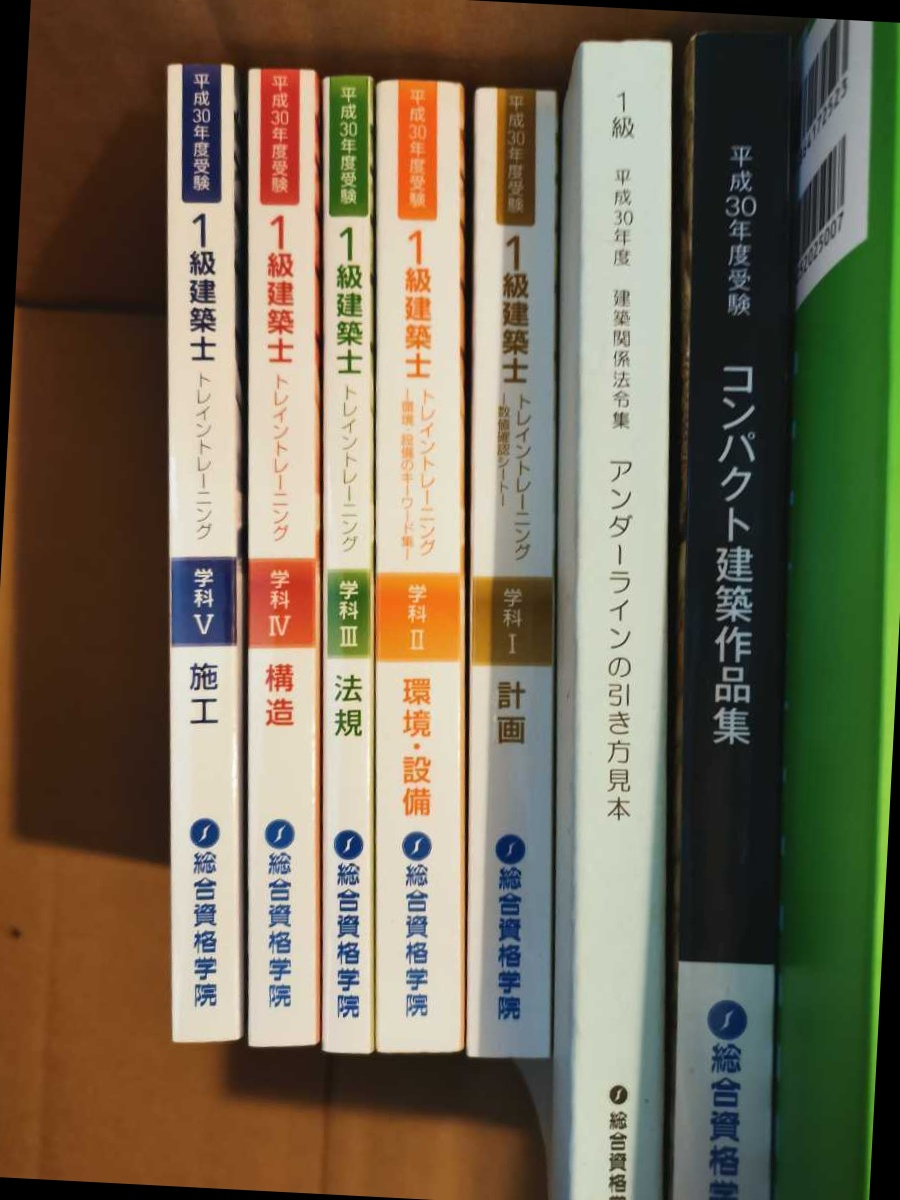book: (671, 20, 781, 1195), (574, 33, 677, 1200), (366, 74, 471, 1059), (464, 82, 565, 1066), (160, 57, 247, 1049), (240, 62, 323, 1054), (316, 68, 376, 1059)
